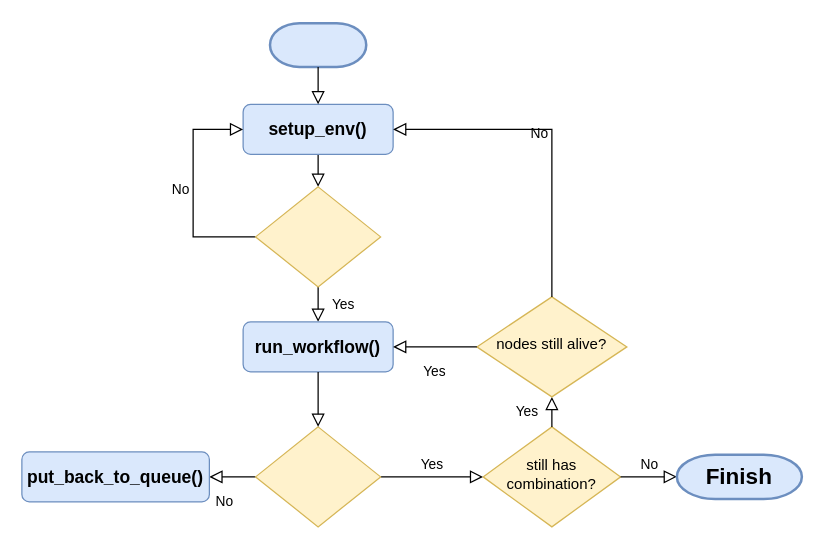
Image size: 825x549. Some labels were removed from this diagram. Each missing label, with the box of its shape:
run successfully?: (254, 426, 381, 527)
setup successfully?: (254, 186, 381, 287)
Start: (268, 21, 367, 68)
